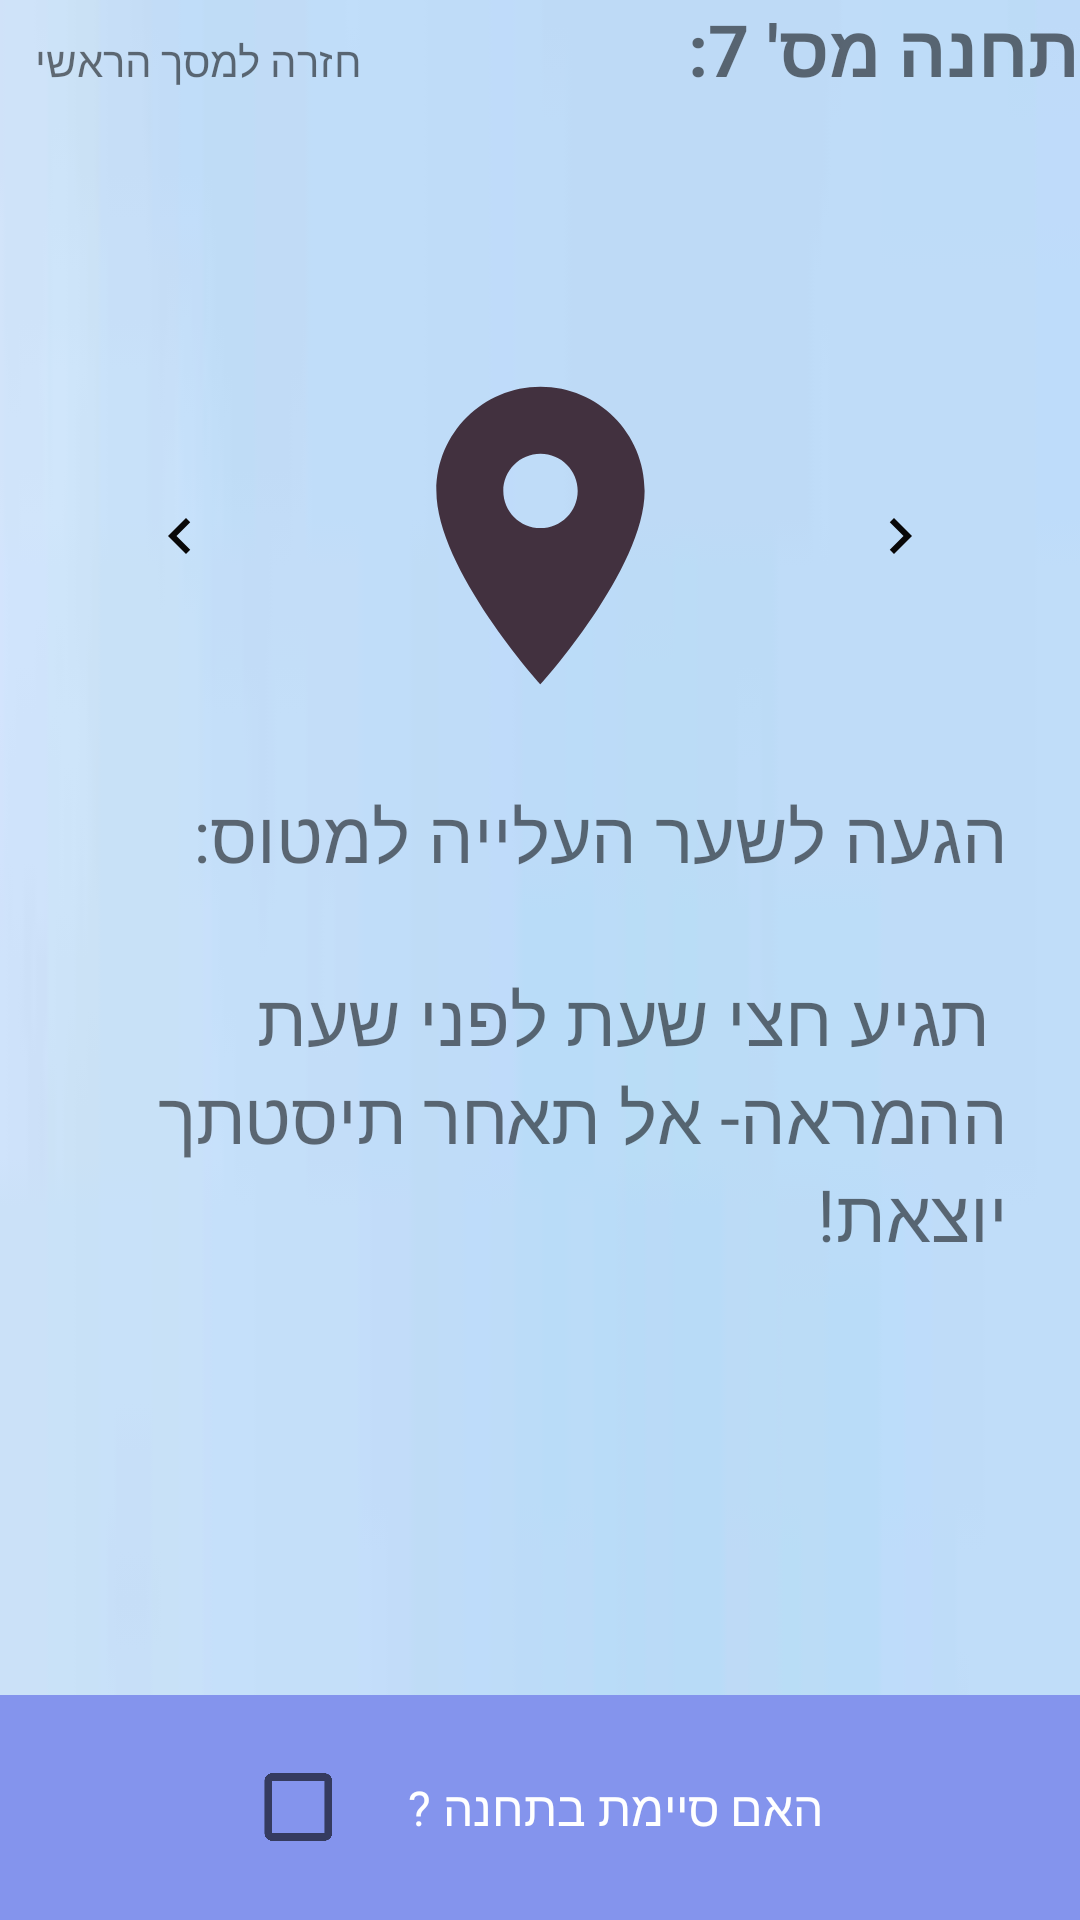

Icon bounding boxes for this 1080px×1920px phone screenshot, format [left=x1, top=y1, right=x2, bottom=y2]:
loc: [left=436, top=386, right=645, bottom=684]
navnext: [left=890, top=518, right=912, bottom=554]
